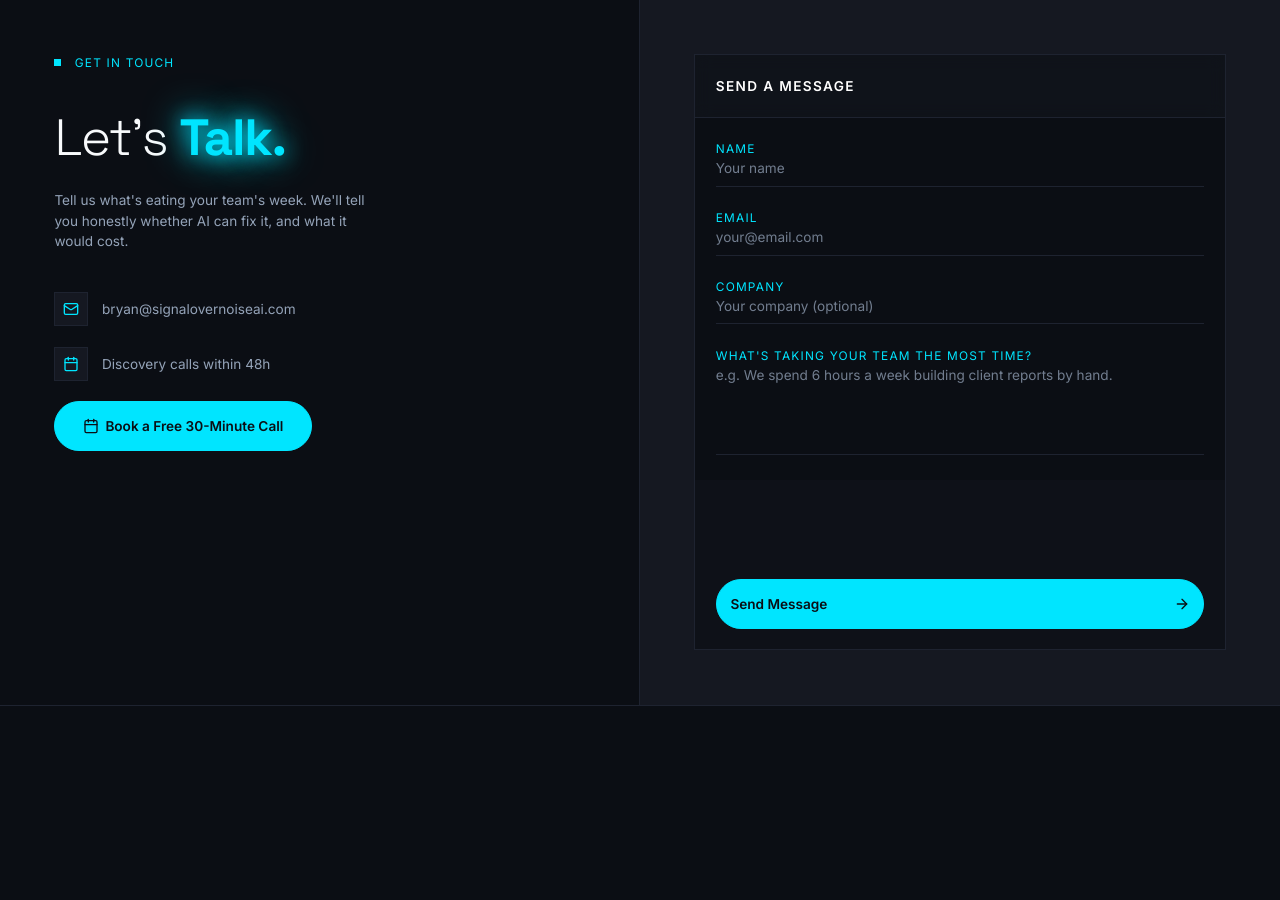
ContactSection when the send fails › keeps the error on screen after the human check re-passes
This screenshot has width=1280, height=900.
expect the button "Send Message" is enabled: met, box 716,579 -> 1204,629
Type "Ada" into the field labelled "Name". click: (960, 172)
box: 716,158 -> 1204,186
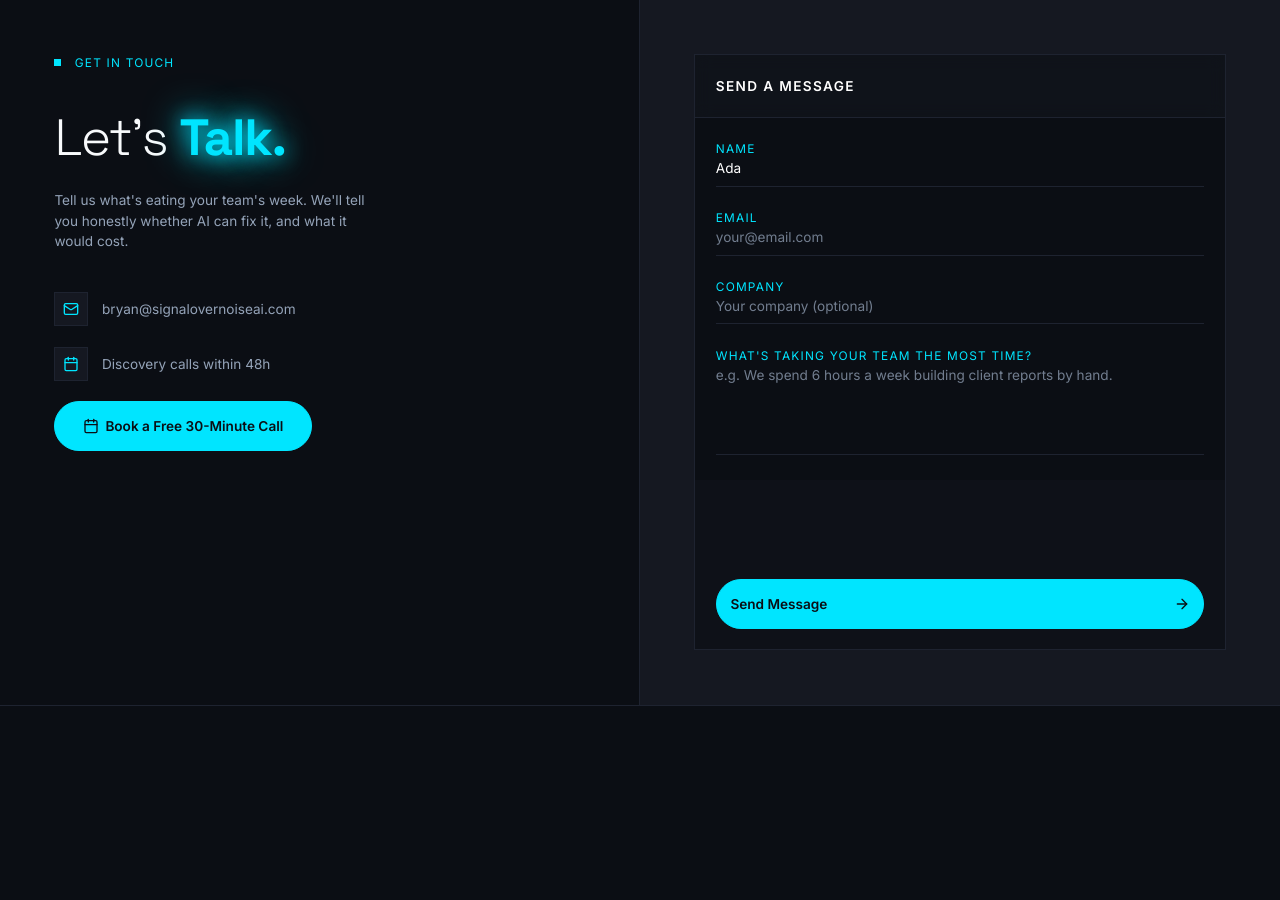
Type "ada@example.com" into the field labelled "Email". click: (960, 241)
box: 716,227 -> 1204,256
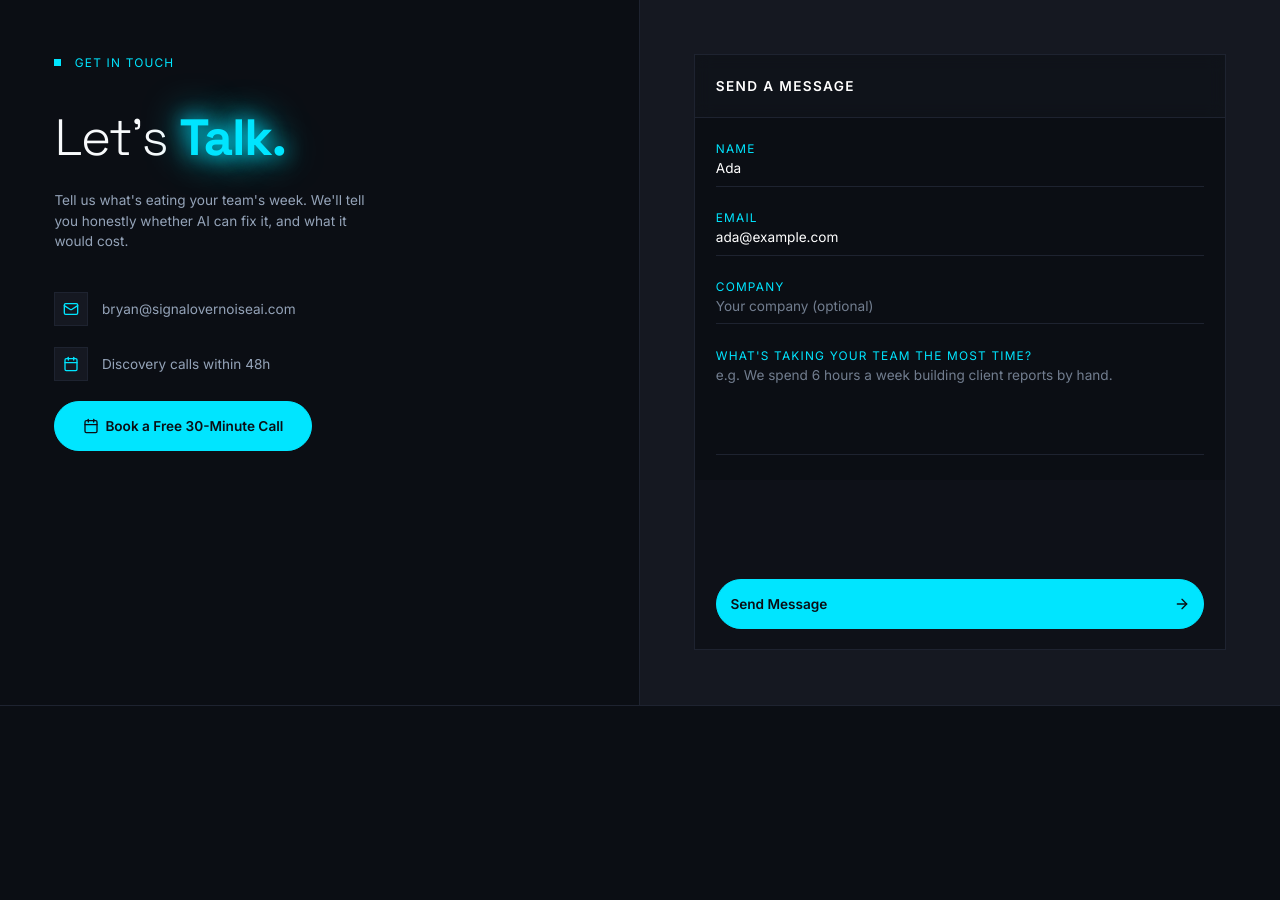
Replace the text in the text box labelled "What's taking your team the most time?" with "Hello". click: (960, 410)
box: 716,365 -> 1204,455
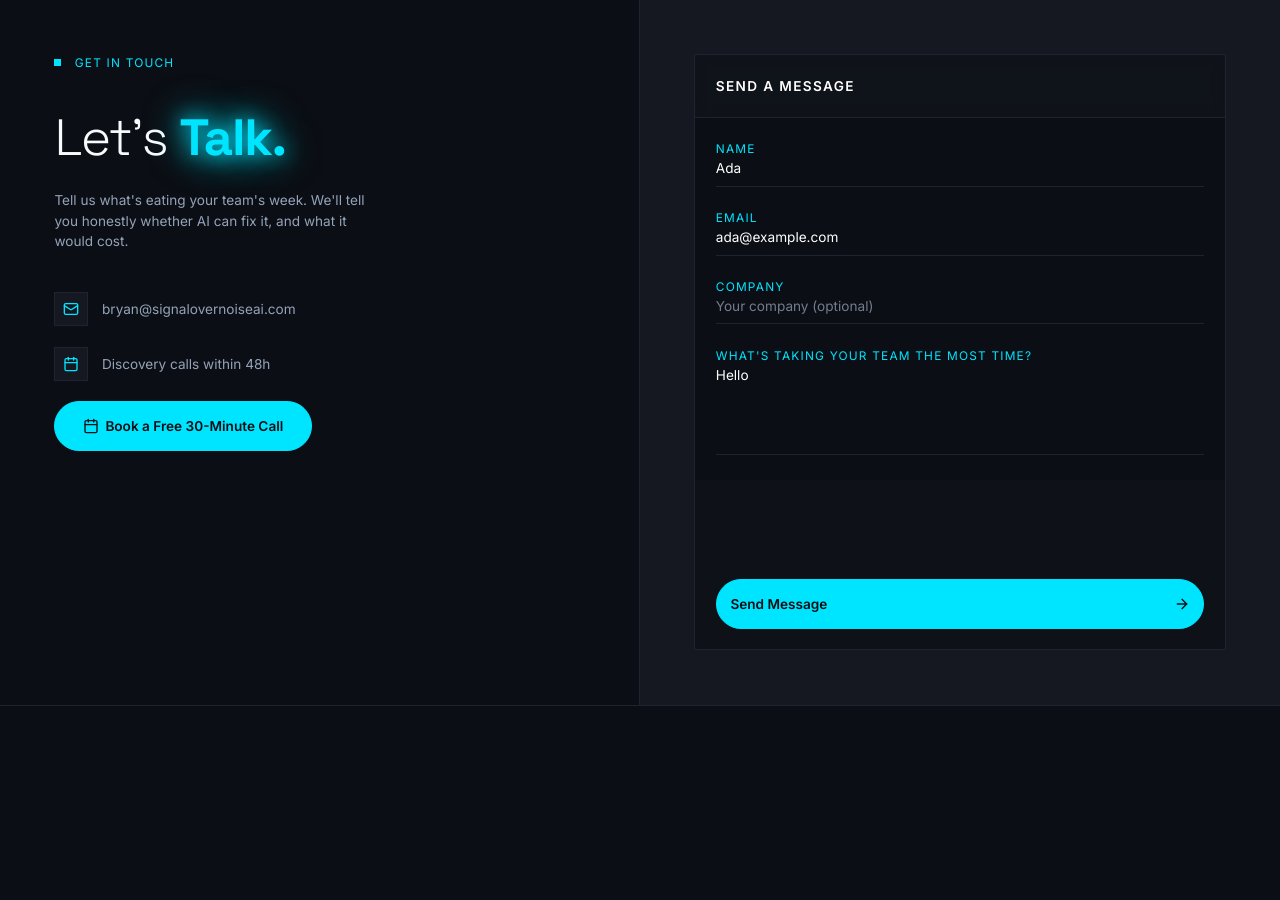
Submit the form named "send message", box 694,54 -> 1226,650
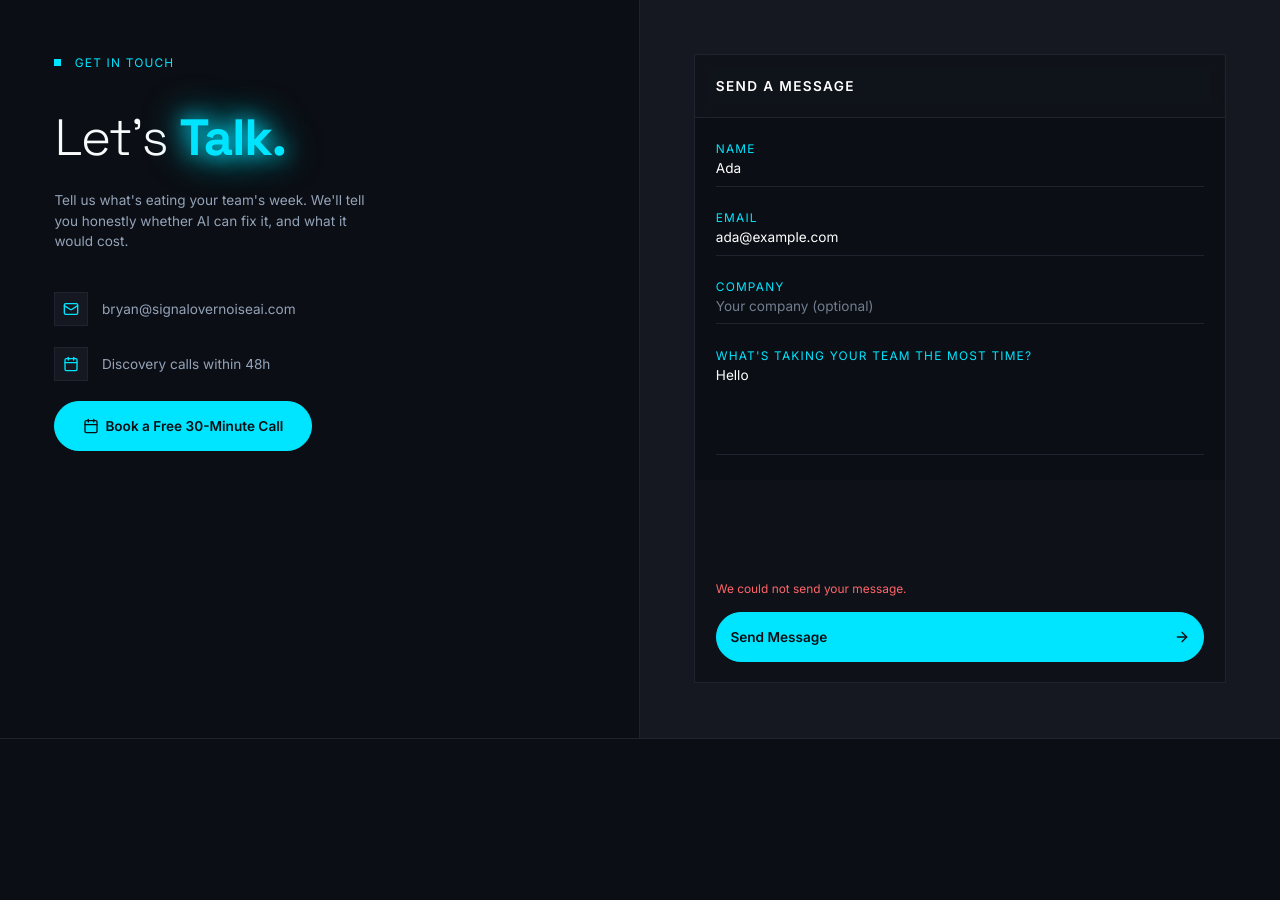
expect the button "Send Message" is enabled: met, box 716,612 -> 1204,662
expect the message reads "We could not send your message.": met, box 716,581 -> 907,596
